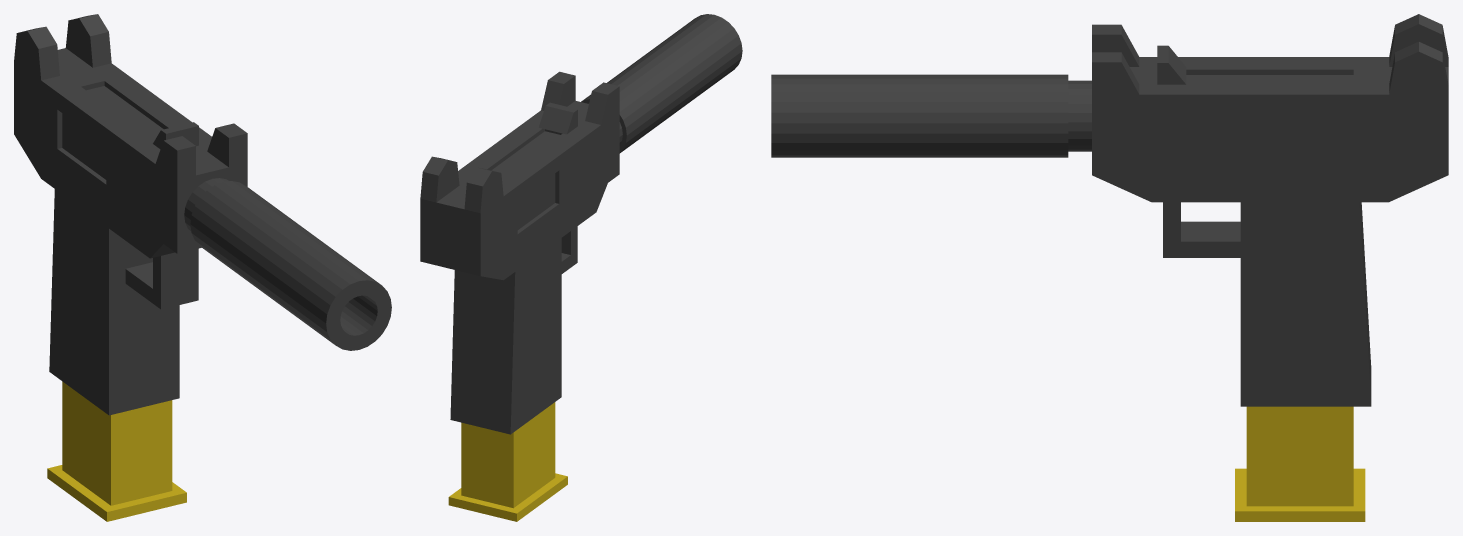
File: uzigoldsilencer.glb
3 views of the same model, side by side, from view 1: azimuth 30°, elevation 25°; view 2: azimuth 150°, elevation 25°; view 3: azimuth 270°, elevation 25° (orthographic). The views are drawn at different scales.
Visible parts, largest first — view 1: Mesh2 Group3 Group1 Model, Mesh3 Group4 Group1 Model, Mesh1 Group2 Group1 Model, Mesh4 Group5 Group1 Model; view 2: Mesh2 Group3 Group1 Model, Mesh3 Group4 Group1 Model, Mesh1 Group2 Group1 Model, Mesh4 Group5 Group1 Model; view 3: Mesh2 Group3 Group1 Model, Mesh3 Group4 Group1 Model, Mesh1 Group2 Group1 Model, Mesh4 Group5 Group1 Model.
Part boxes in pixels (x1,y1,x2,y2): Mesh2 Group3 Group1 Model: (14,14,247,415); Mesh3 Group4 Group1 Model: (190,181,391,350); Mesh1 Group2 Group1 Model: (47,381,186,521); Mesh4 Group5 Group1 Model: (153,122,198,149); Mesh2 Group3 Group1 Model: (420,71,622,434); Mesh3 Group4 Group1 Model: (581,14,742,153); Mesh1 Group2 Group1 Model: (448,402,567,521); Mesh4 Group5 Group1 Model: (539,102,577,134); Mesh2 Group3 Group1 Model: (1068,14,1448,406); Mesh3 Group4 Group1 Model: (771,74,1068,157); Mesh1 Group2 Group1 Model: (1235,406,1365,521); Mesh4 Group5 Group1 Model: (1157,45,1186,84).
Bounding box in the file's own units: 0.0102 × 0.0522 × 0.0685.
